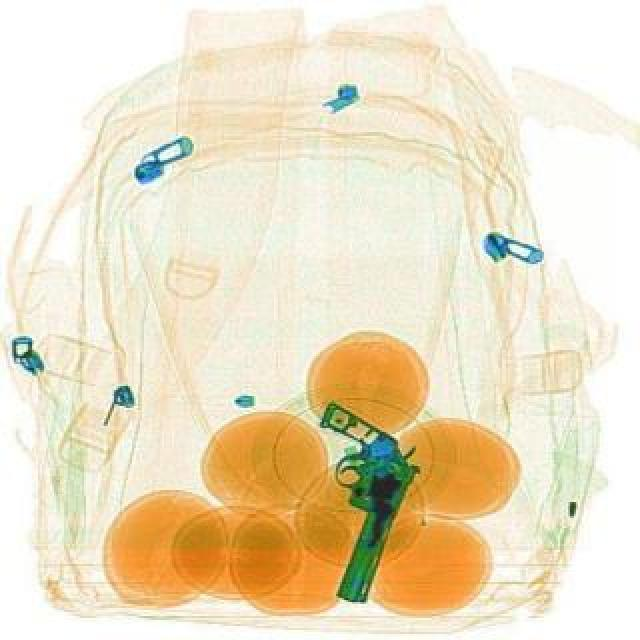gun: (256, 398, 428, 606)
